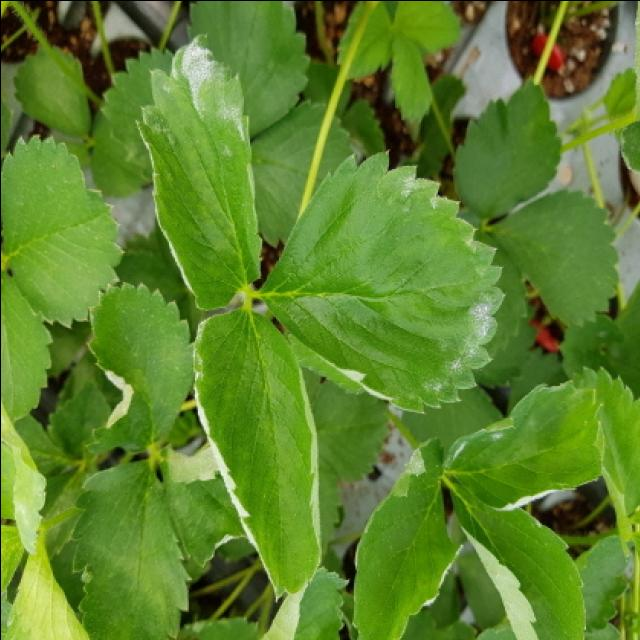Powdery Mildew Leaf: (254, 148, 507, 416), (189, 304, 323, 601), (133, 32, 261, 310), (348, 435, 457, 640), (448, 481, 585, 640), (442, 378, 605, 510), (82, 279, 193, 456), (159, 435, 247, 566)
